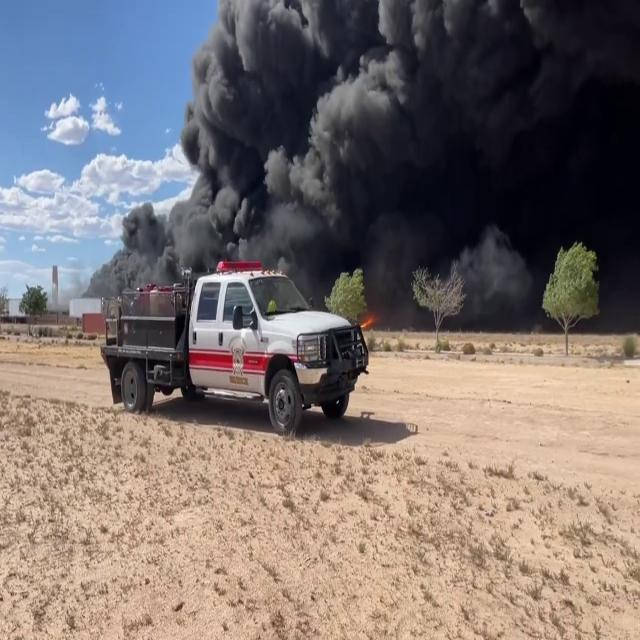Smoke: (167, 0, 640, 305)
